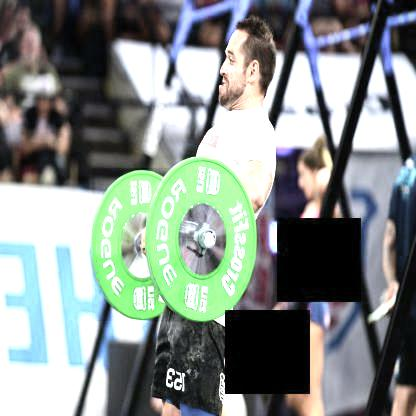barbell: (146, 156, 256, 322), (91, 169, 185, 321)
